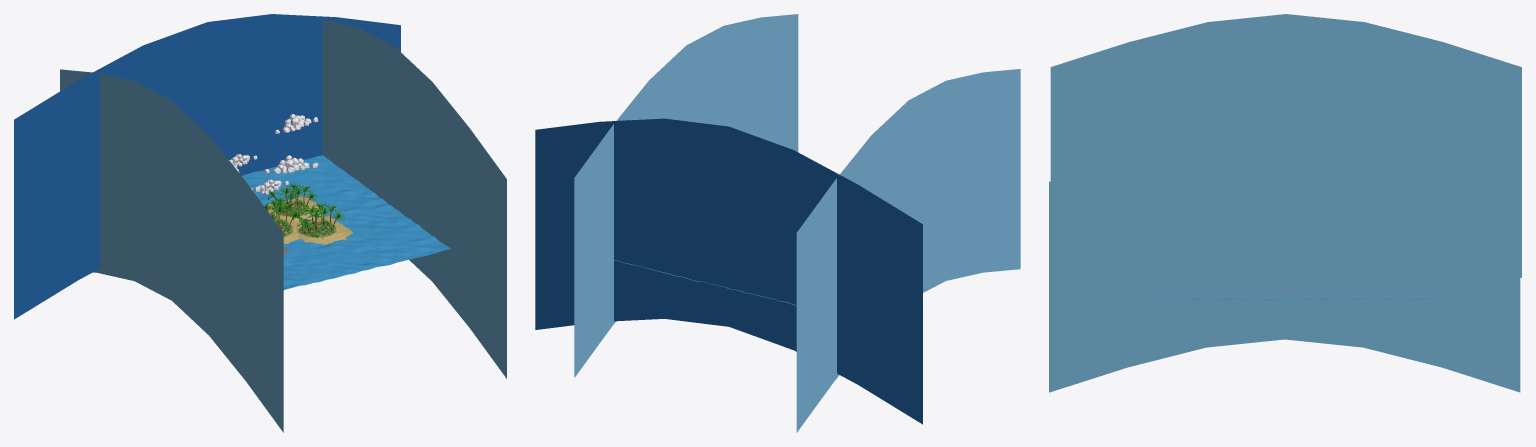
Rendered from island.obj.
3 views of the same model, side by side, from view 1: azimuth 30°, elevation 25°; view 2: azimuth 150°, elevation 25°; view 3: azimuth 270°, elevation 25° (orthographic). The views are drawn at different scales.
Visible parts, largest first — view 1: Plane.002, Plane.003, Plane.004, Plane.001, Plane.001_Plane.004, Cloud.002_Icosphere.001, Plane.001_Plane.001; view 2: Plane.002, Plane.003, Plane.004; view 3: Plane.004, Plane.003.
Part boxes in pixels (<box>): Plane.002: <box>14,14,400,319</box>; Plane.003: <box>60,69,283,432</box>; Plane.004: <box>322,19,506,378</box>; Plane.001: <box>242,155,450,289</box>; Plane.001_Plane.004: <box>296,215,353,244</box>; Cloud.002_Icosphere.001: <box>264,155,318,173</box>; Plane.001_Plane.001: <box>267,195,322,222</box>; Plane.002: <box>535,118,922,424</box>; Plane.003: <box>796,69,1020,432</box>; Plane.004: <box>574,14,798,377</box>; Plane.004: <box>1049,128,1520,392</box>; Plane.003: <box>1050,14,1521,277</box>.
Bounding box in the file's own units: 164 × 102 × 165.
